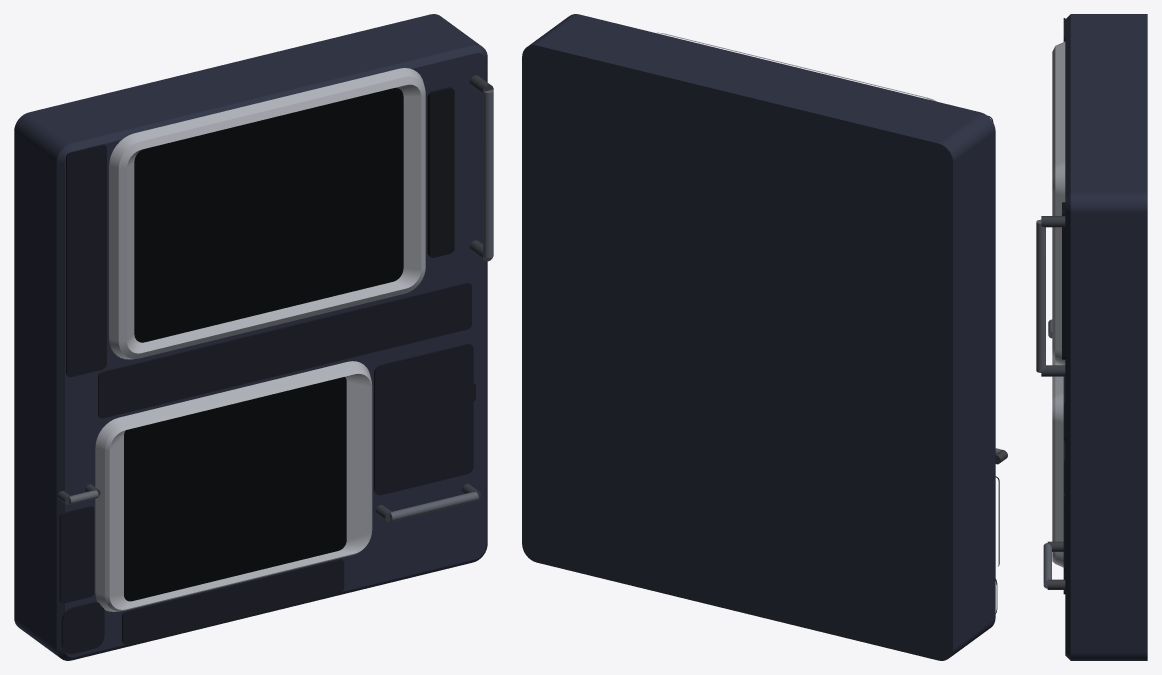
File: ip_cdus.glb
The picture shows the model from 3 angles, left to right: view 1: azimuth 30°, elevation 25°; view 2: azimuth 150°, elevation 25°; view 3: azimuth 270°, elevation 25°; orthographic projection. The views are drawn at different scales.
Parts seen in each view (by area): view 1: O_ip_cdus__Glass, O_ip_cdus__Housing, O_ip_cdus__Wells, O_ip_cdus__Bezel, O_ip_cdus__LedStrip, O_ip_cdus__Handles, O_ip_cdus__Posts; view 2: O_ip_cdus__Housing; view 3: O_ip_cdus__Housing, O_ip_cdus__Bezel, O_ip_cdus__Handles, O_ip_cdus__Posts, O_ip_cdus__Wells, O_ip_cdus__LedStrip.
Boxes of the visible parts, x1,y1,x2,y2 form: O_ip_cdus__Glass: (124,88,403,601); O_ip_cdus__Housing: (14,14,487,660); O_ip_cdus__Wells: (59,144,475,654); O_ip_cdus__Bezel: (95,68,425,611); O_ip_cdus__LedStrip: (427,87,454,257); O_ip_cdus__Handles: (69,89,493,521); O_ip_cdus__Posts: (57,75,493,522); O_ip_cdus__Housing: (522,14,995,660); O_ip_cdus__Housing: (1065,14,1147,660); O_ip_cdus__Bezel: (1052,41,1065,567); O_ip_cdus__Handles: (1036,219,1052,588); O_ip_cdus__Posts: (1041,216,1065,589); O_ip_cdus__Wells: (1063,18,1065,594); O_ip_cdus__LedStrip: (1062,202,1065,359).
Size of the model in its own units: 1.15 by 1.32 by 0.2839.
